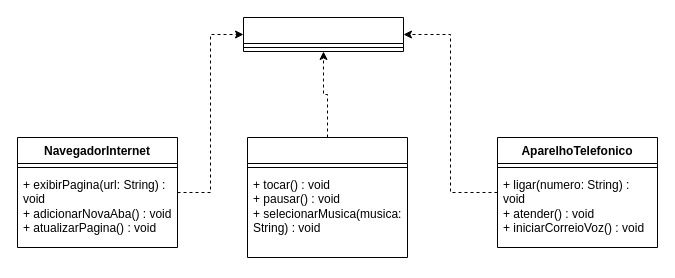
Some shapes in this 675 by 278 pixel diagram are drawn without their labels. The box of each missing label's shape, as (x1, y1, x2, y2) in pixels:
Iphone: (242, 16, 404, 52)
ReprodutorMusical: (246, 136, 408, 258)
